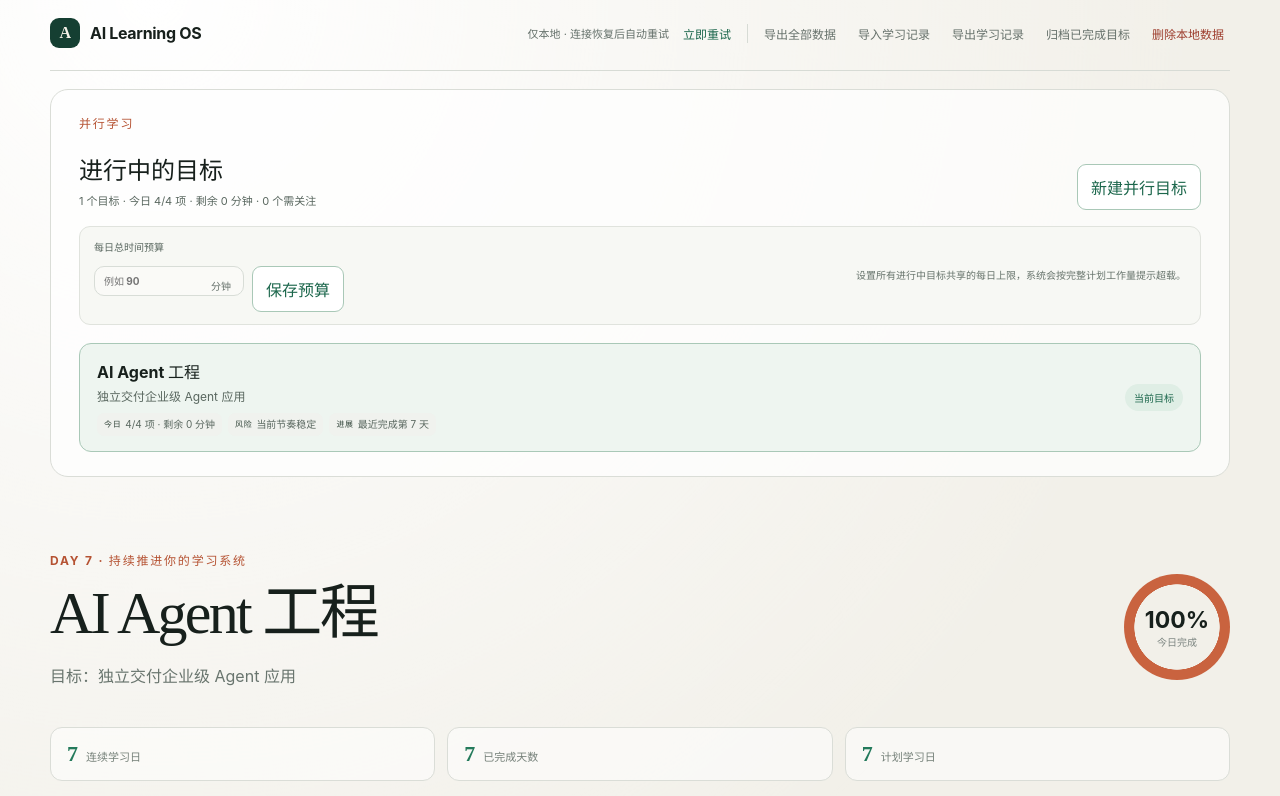
learning data controls › archives a completed goal and returns to goal creation without losing its history
The image size is (1280, 796).
Click the button "归档已完成目标" at (1088, 33), box [1040, 24, 1136, 42]
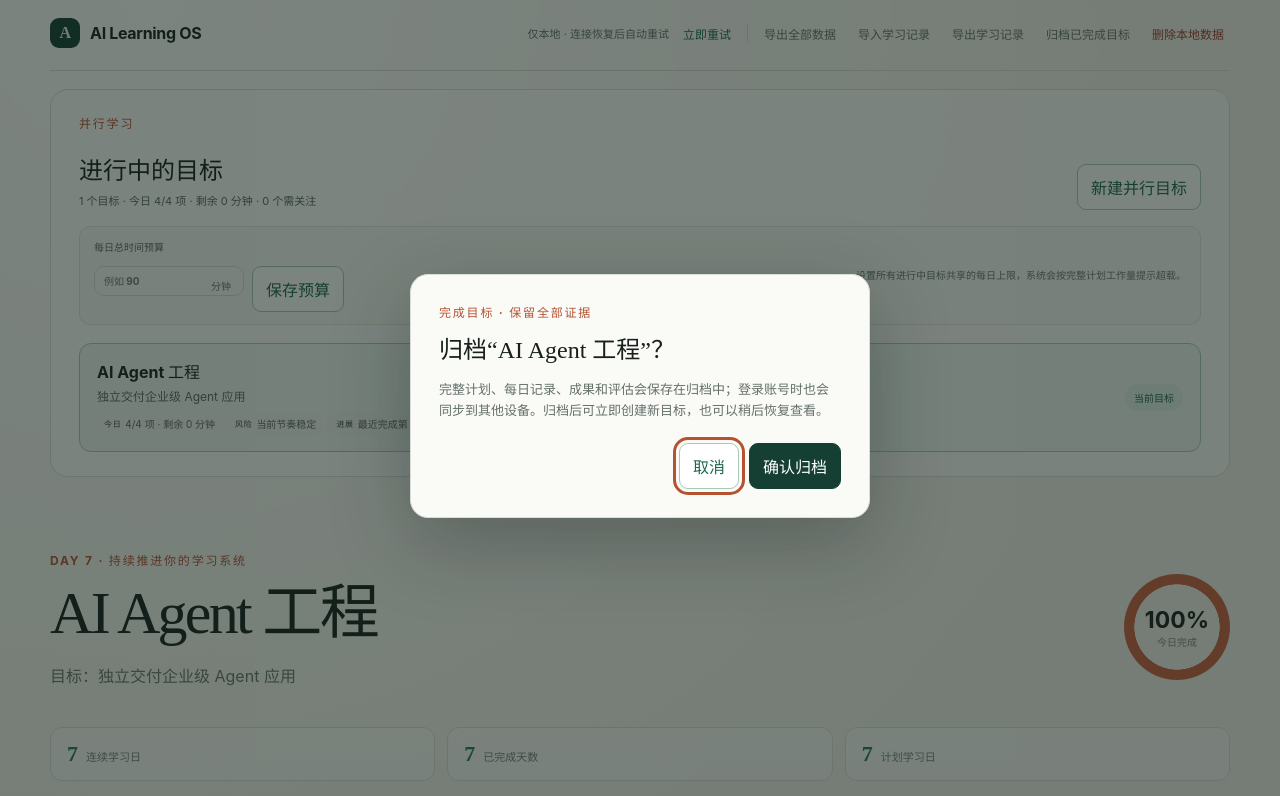
Click the button "确认归档" at (795, 466), box [749, 443, 841, 489]
(page scrolled)
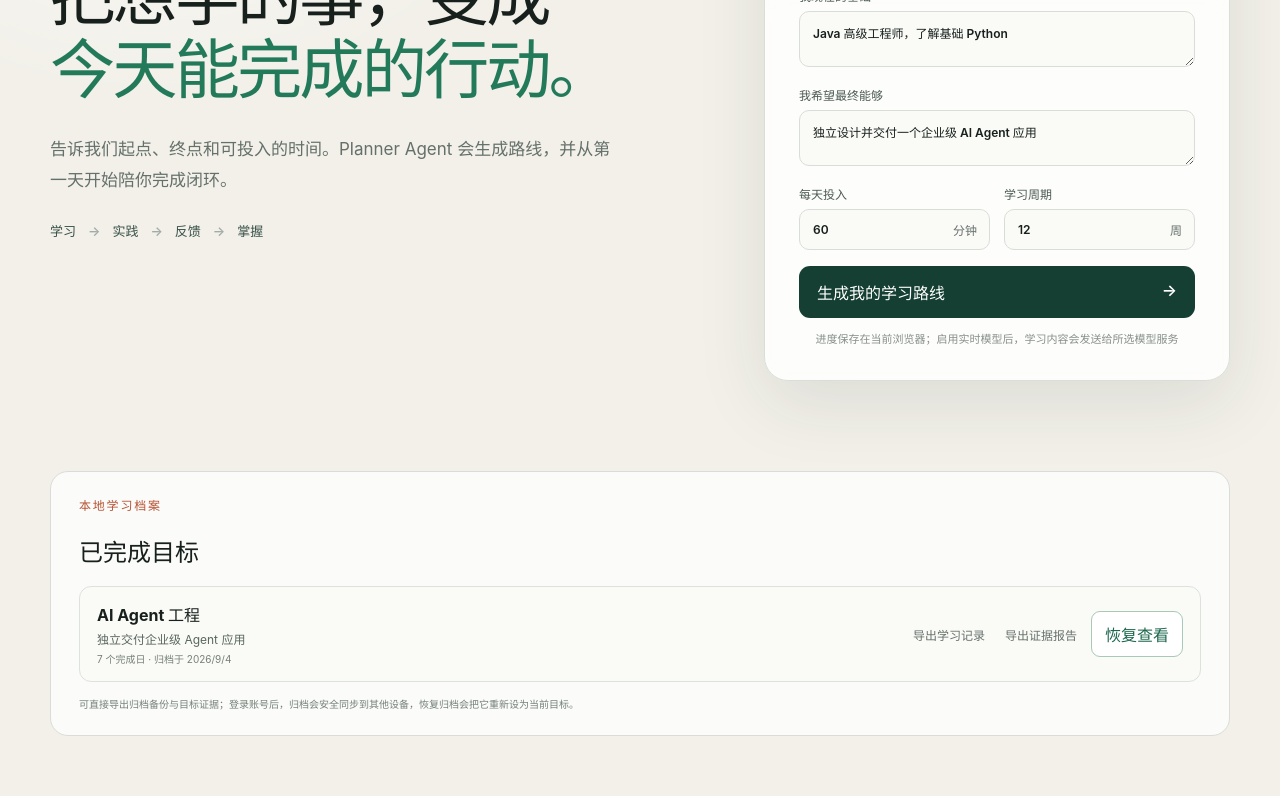
Expected: the heading "已完成目标" is shown, [79, 540, 199, 566]
Expected: the button "生成我的学习路线 →" is shown, [799, 266, 1195, 318]
Expected: the text "7 个完成日" is shown, [97, 651, 245, 666]
Click the button "导出学习记录" at (949, 634), box [907, 624, 991, 644]
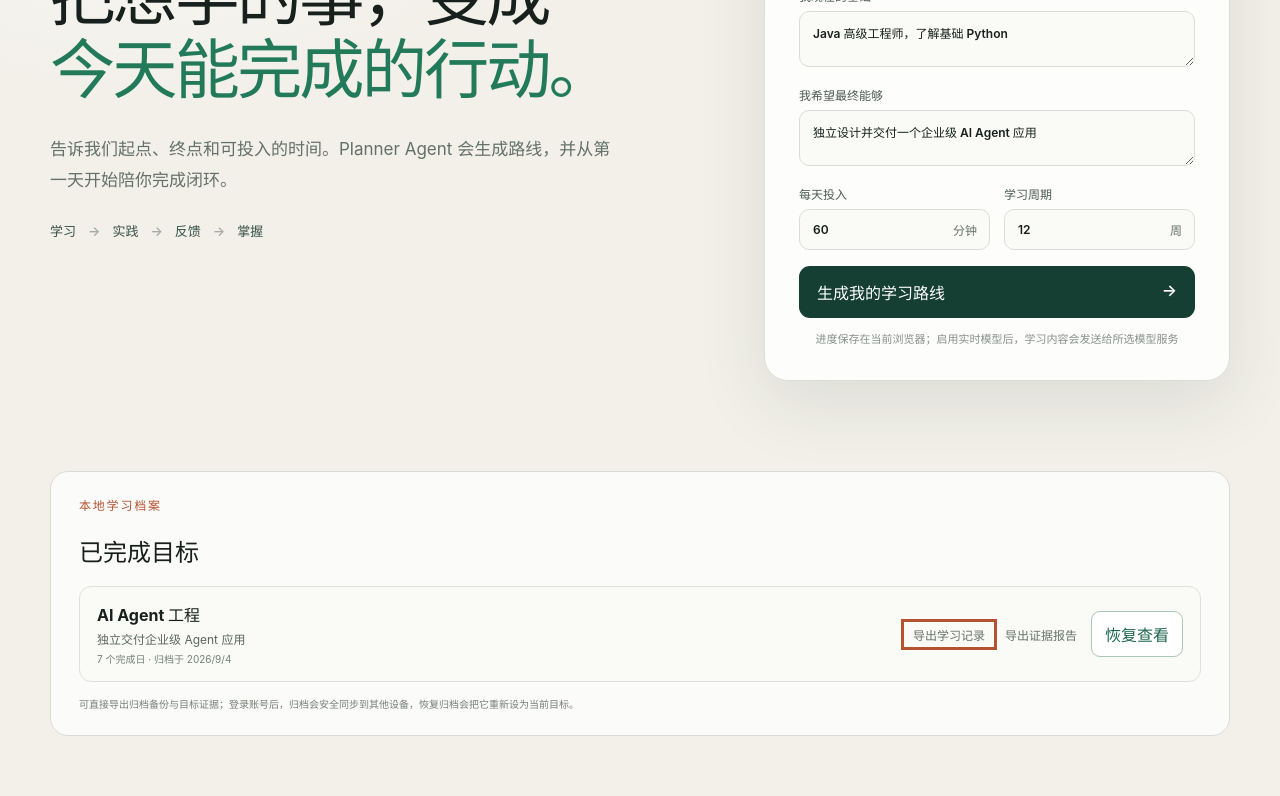
Click the button "导出证据报告" at (1041, 634), box [999, 624, 1083, 644]
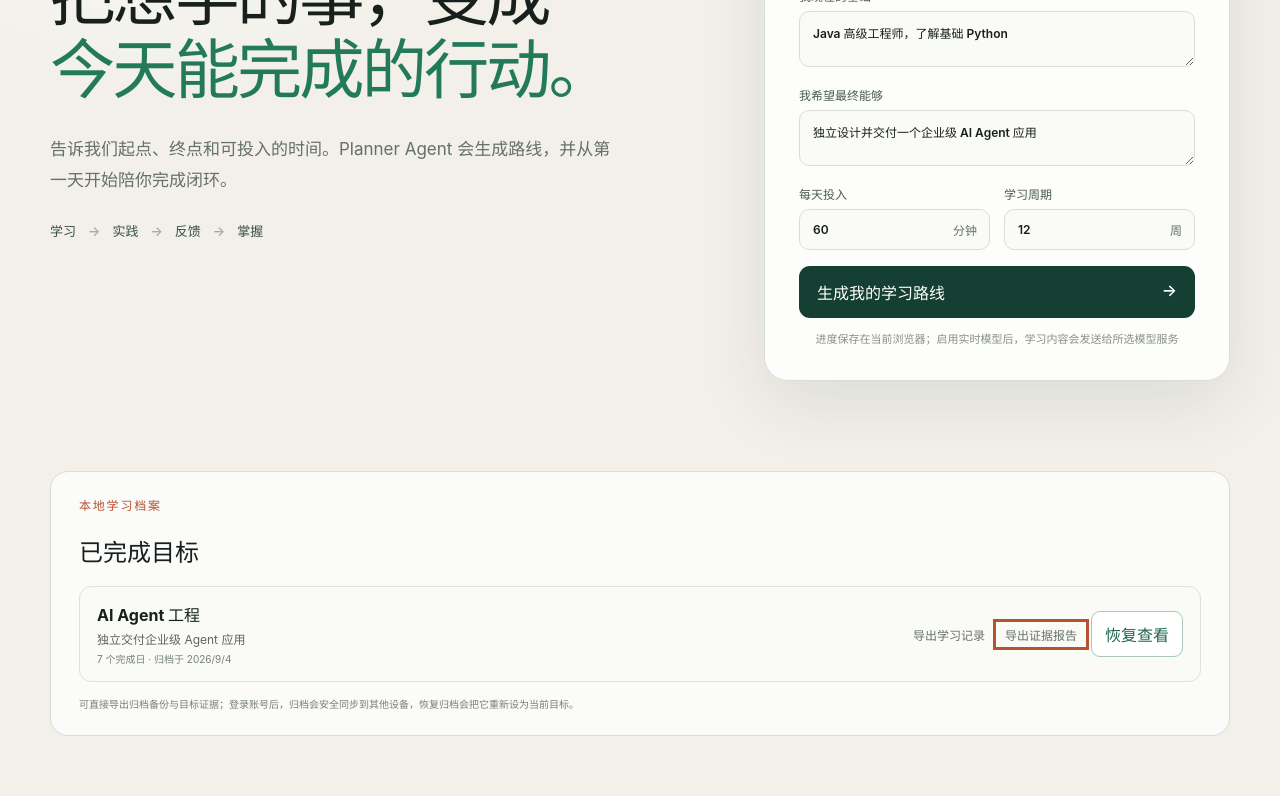
Click the button "恢复查看" at (1137, 634), box [1091, 611, 1183, 657]
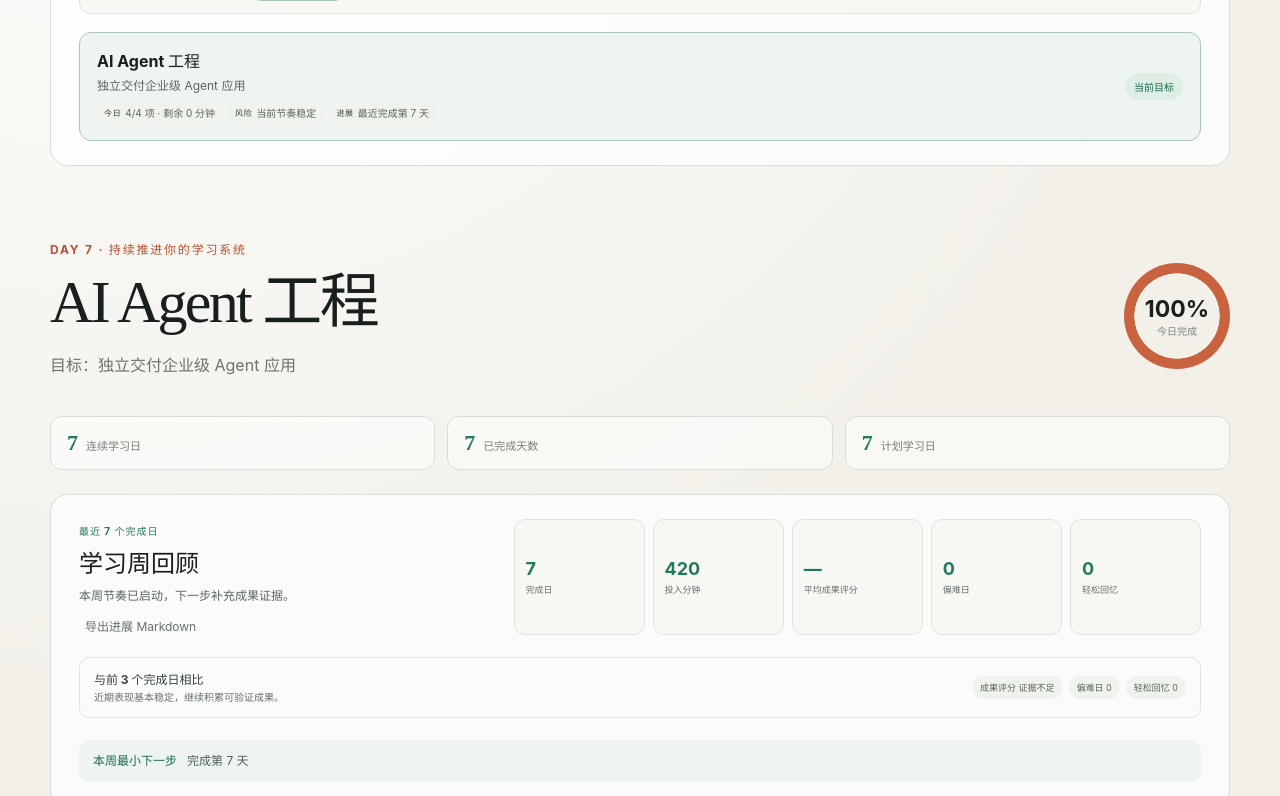
Expected: the heading "AI Agent 工程" is shown, [50, 269, 377, 336]
